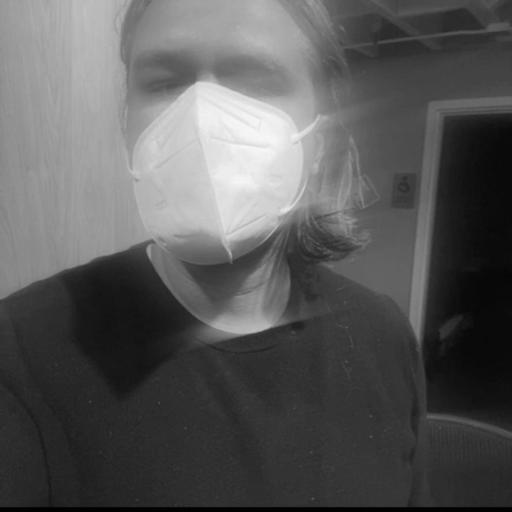mask: (101, 0, 364, 270)
